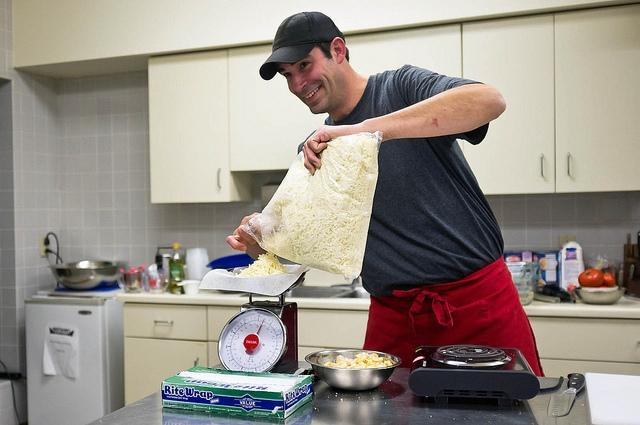tomato: (578, 268, 604, 288), (602, 274, 616, 288)
